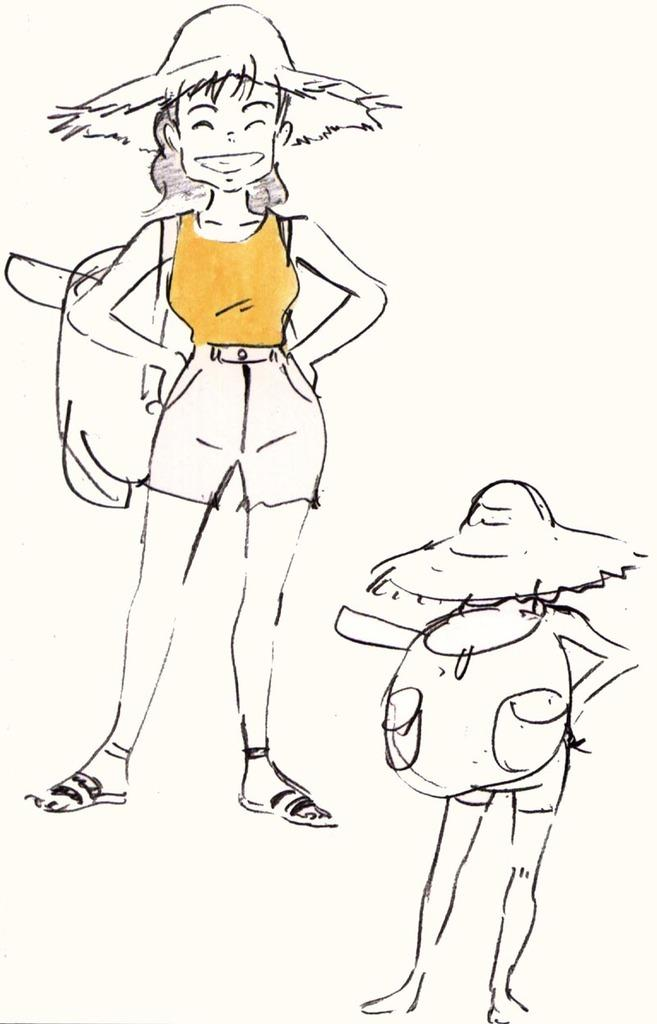Hat: (39, 4, 404, 150), (364, 472, 644, 608)
